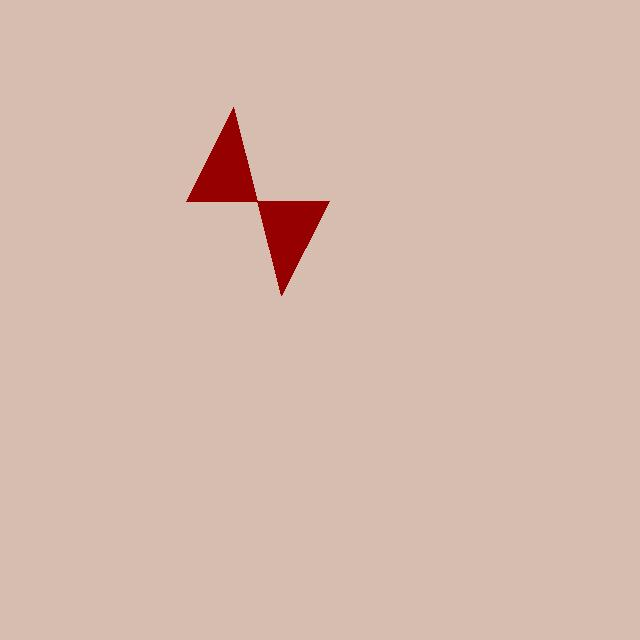laceration: (186, 107, 329, 295)
